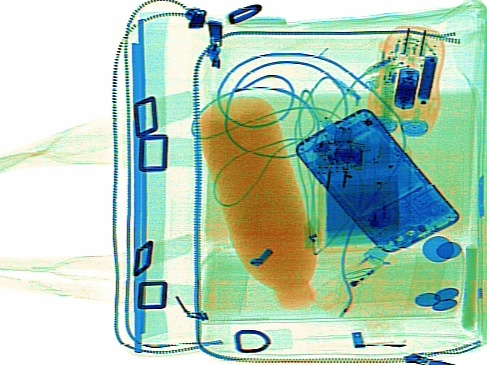lighter: (314, 240, 391, 308)
